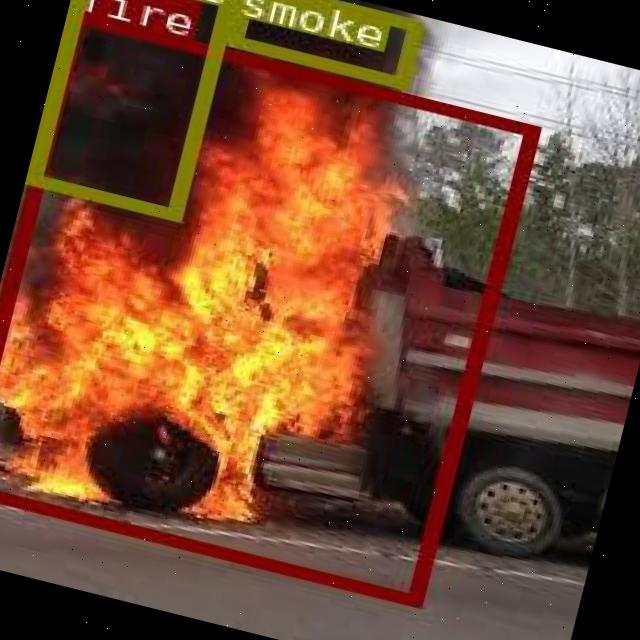fire: (0, 6, 536, 604)
smoke: (25, 0, 237, 217), (225, 0, 420, 86)
